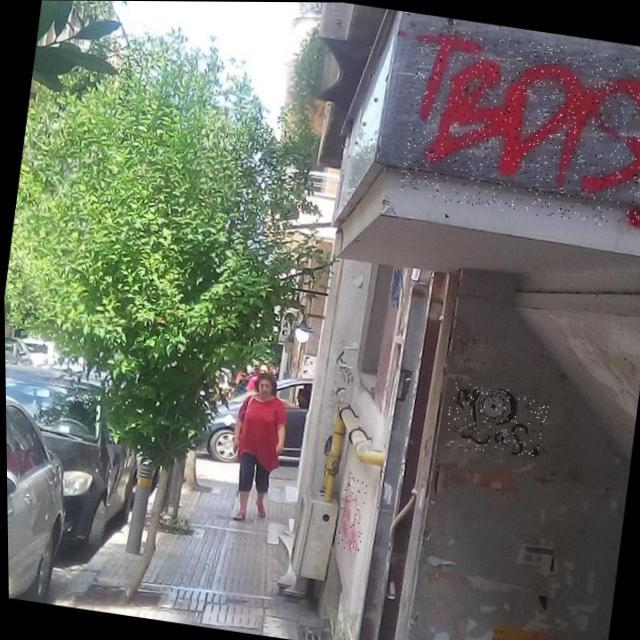-: (396, 25, 640, 232), (442, 381, 551, 463), (333, 470, 369, 552)
